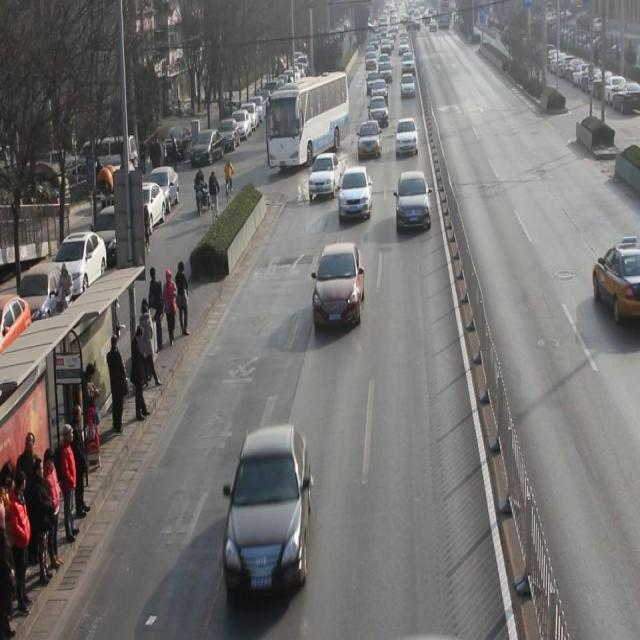car: (224, 427, 314, 596), (313, 244, 366, 331), (593, 239, 640, 325), (396, 171, 433, 232), (339, 167, 374, 223), (308, 153, 344, 200), (358, 120, 384, 161), (396, 117, 420, 157), (369, 96, 390, 127)
van: (268, 71, 351, 170)
